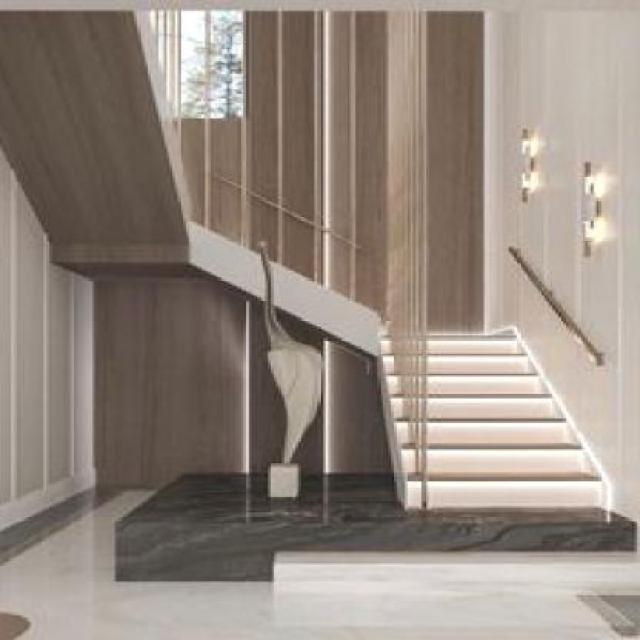stair: (296, 288, 616, 526)
